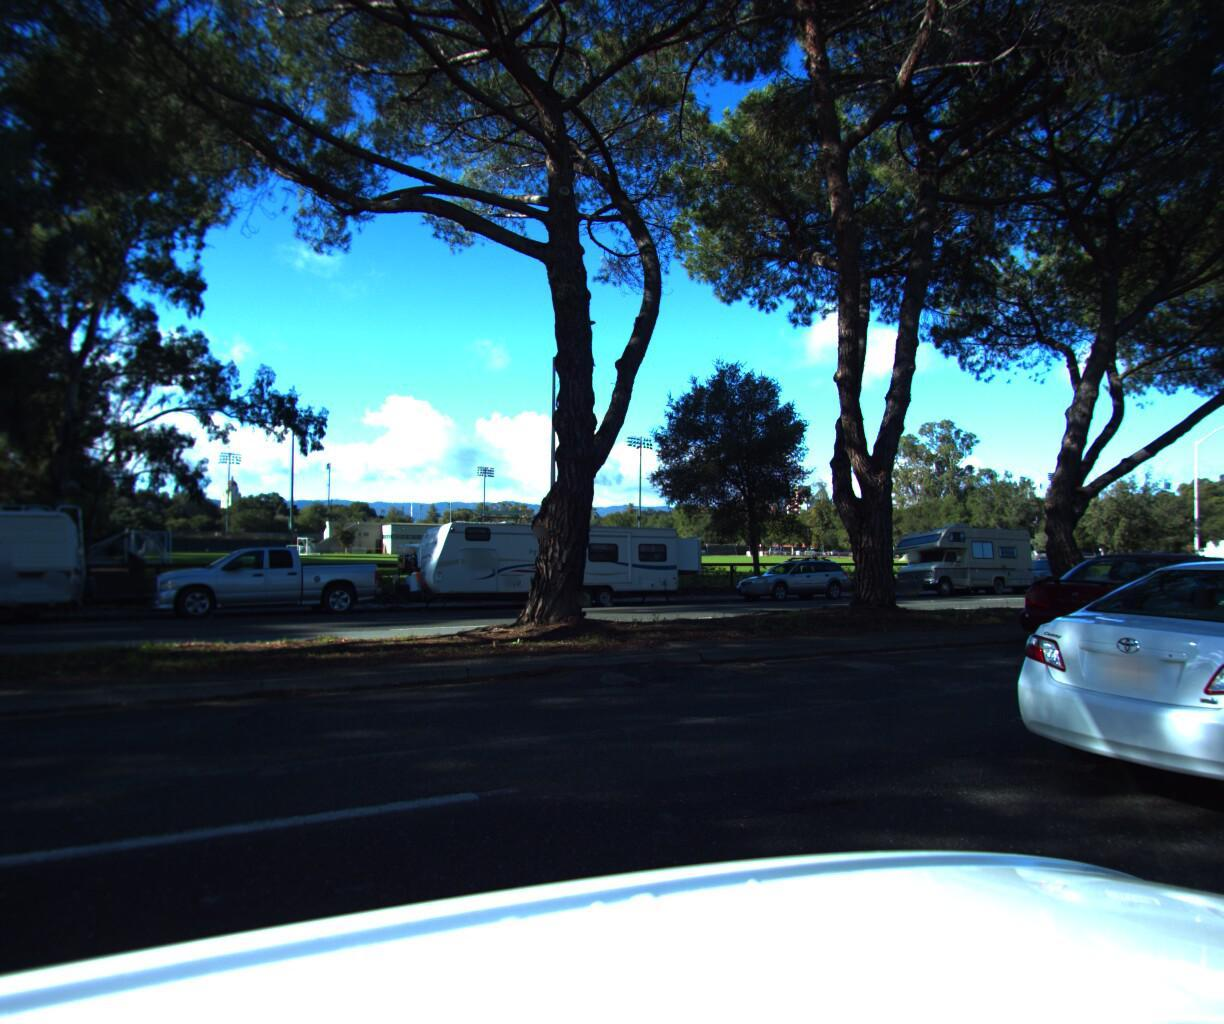car: (966, 550, 1224, 895), (1009, 545, 1224, 674), (143, 544, 387, 625), (723, 549, 856, 602), (998, 542, 1097, 591)
other_vehicle: (375, 505, 682, 617), (0, 484, 100, 648), (881, 514, 1035, 594), (1197, 534, 1224, 581)
